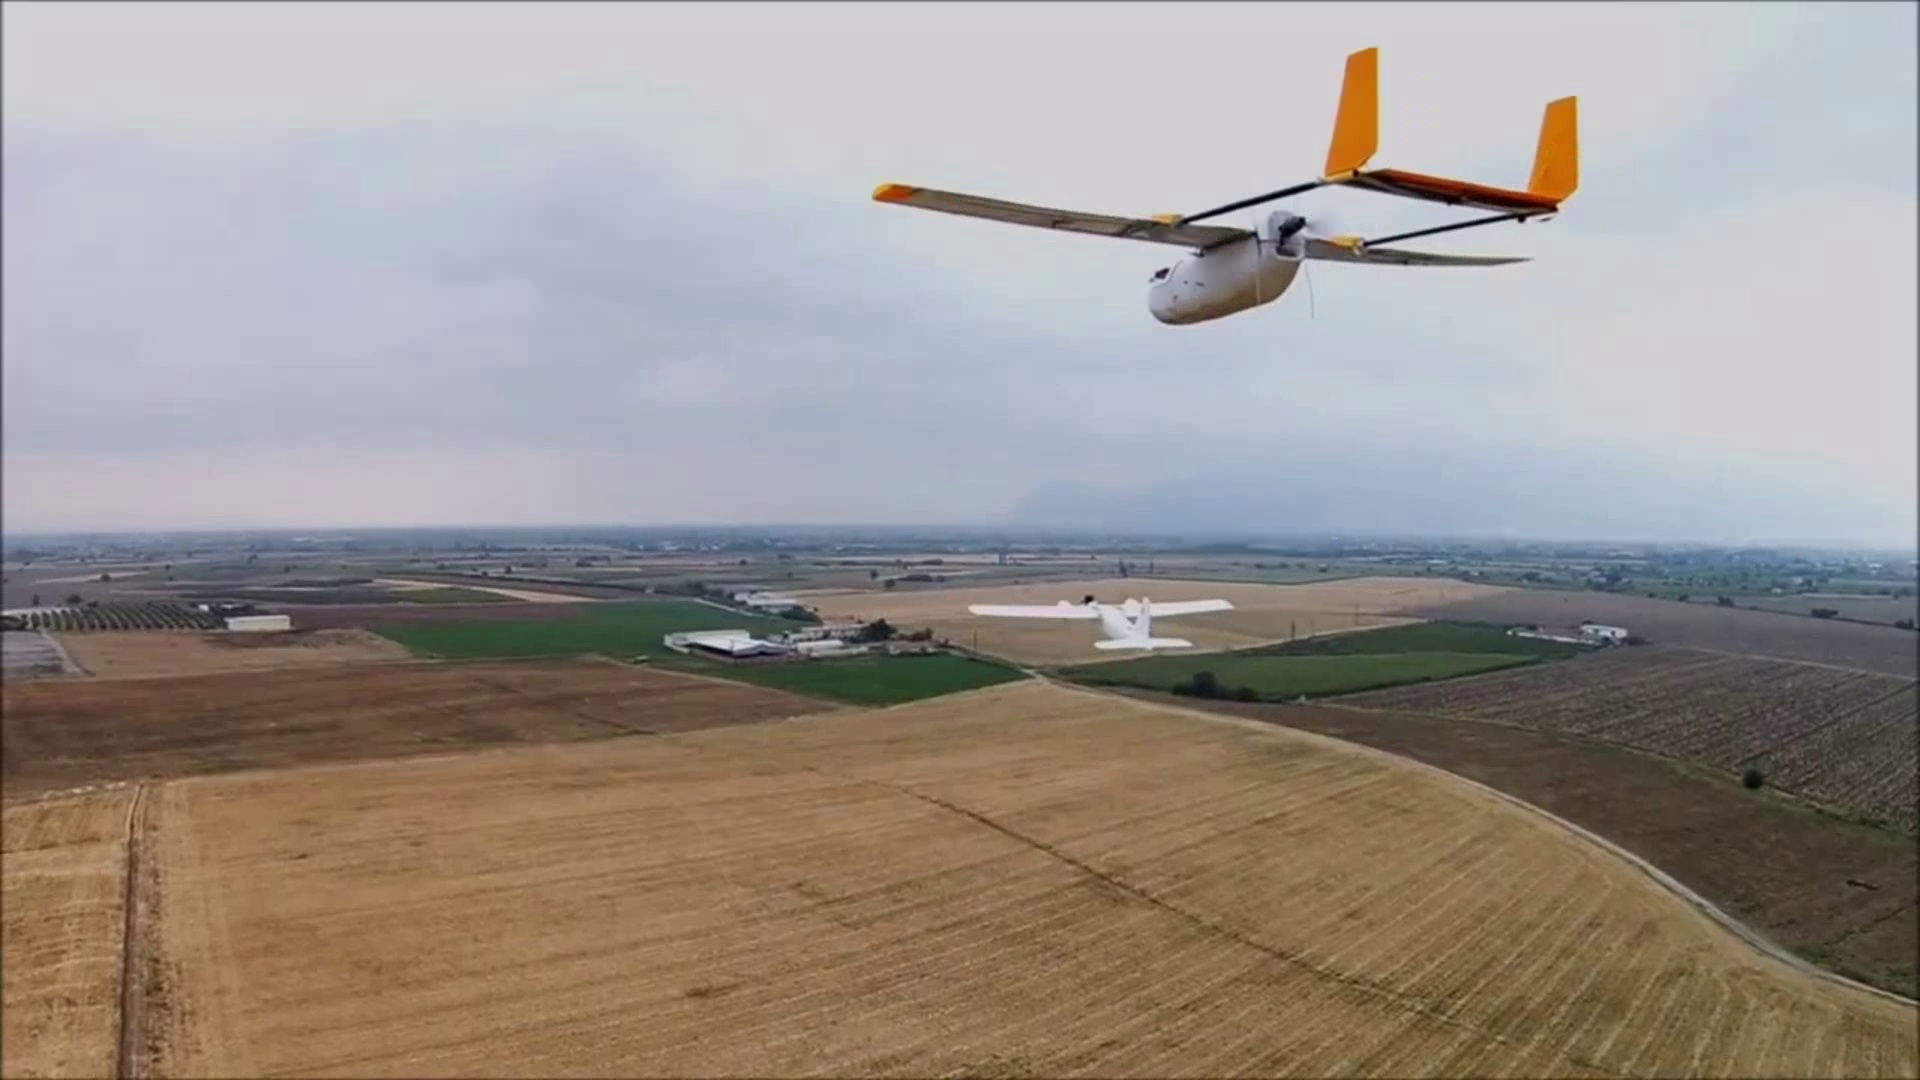airplane: (873, 45, 1578, 326)
